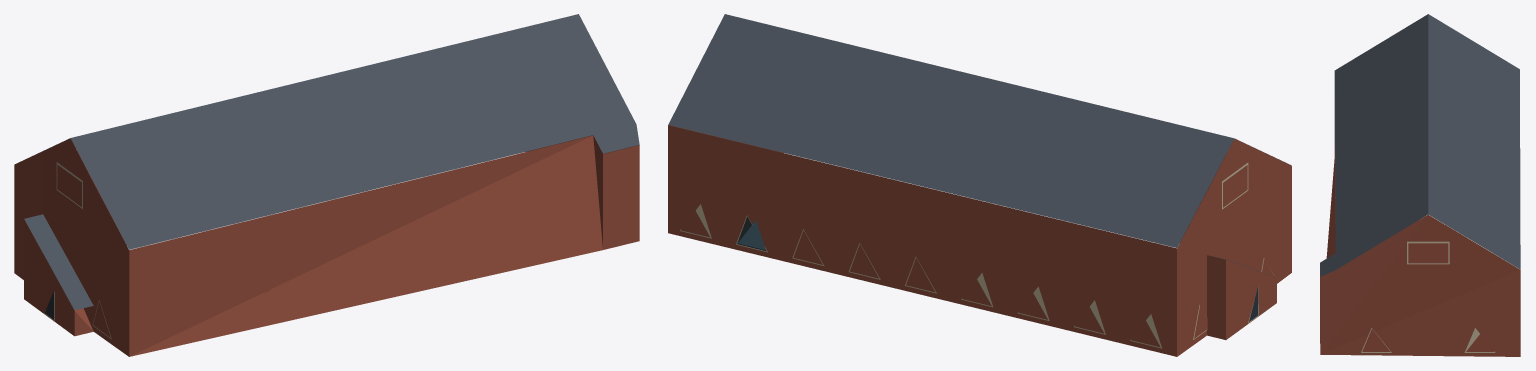
Rendered from de-wester.lod2.glb.
3 views of the same model, side by side, from view 1: azimuth 30°, elevation 25°; view 2: azimuth 150°, elevation 25°; view 3: azimuth 270°, elevation 25° (orthographic). The views are drawn at different scales.
Visible parts, largest first — view 1: lod2; view 2: lod2; view 3: lod2.
Part boxes in pixels (<box>): lod2: <box>14,14,639,356</box>; lod2: <box>668,14,1291,356</box>; lod2: <box>1320,14,1520,356</box>.
Size of the model in its own units: 48.16 by 15.36 by 19.66.
